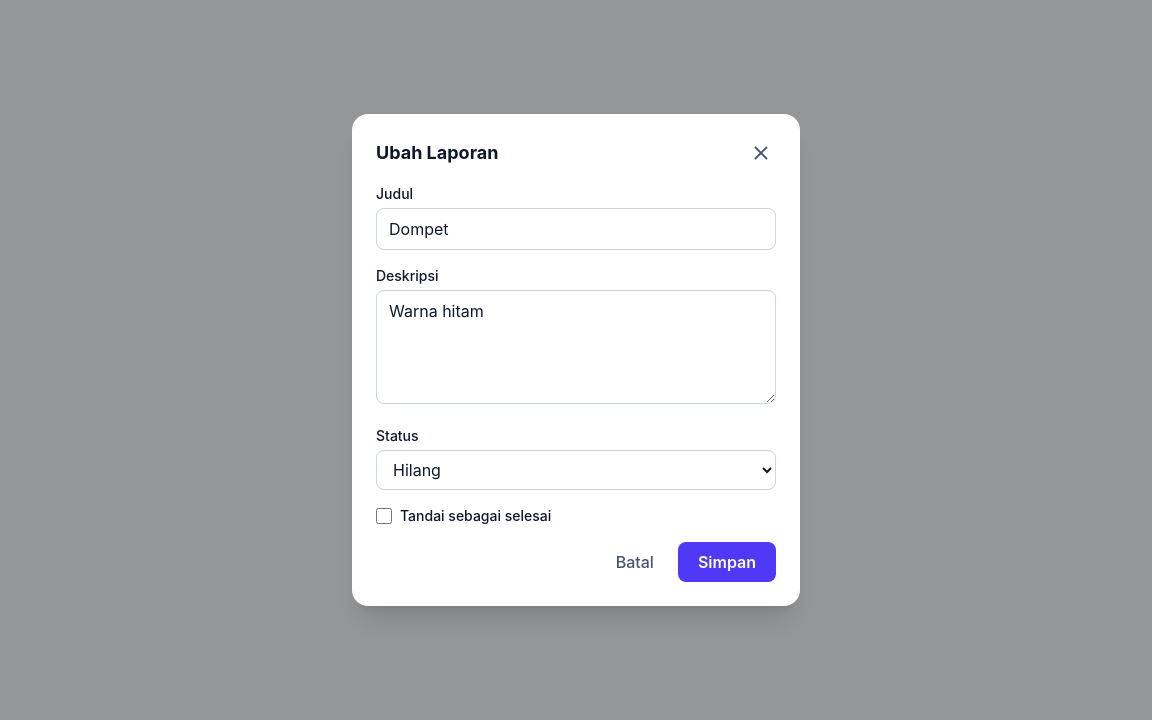
Test: ChangeModal › hanya menampilkan error judul jika hanya judul yang dikosongkan
Step 1. Clear the field labelled "Judul" → (576, 229), box [376,208,776,250]
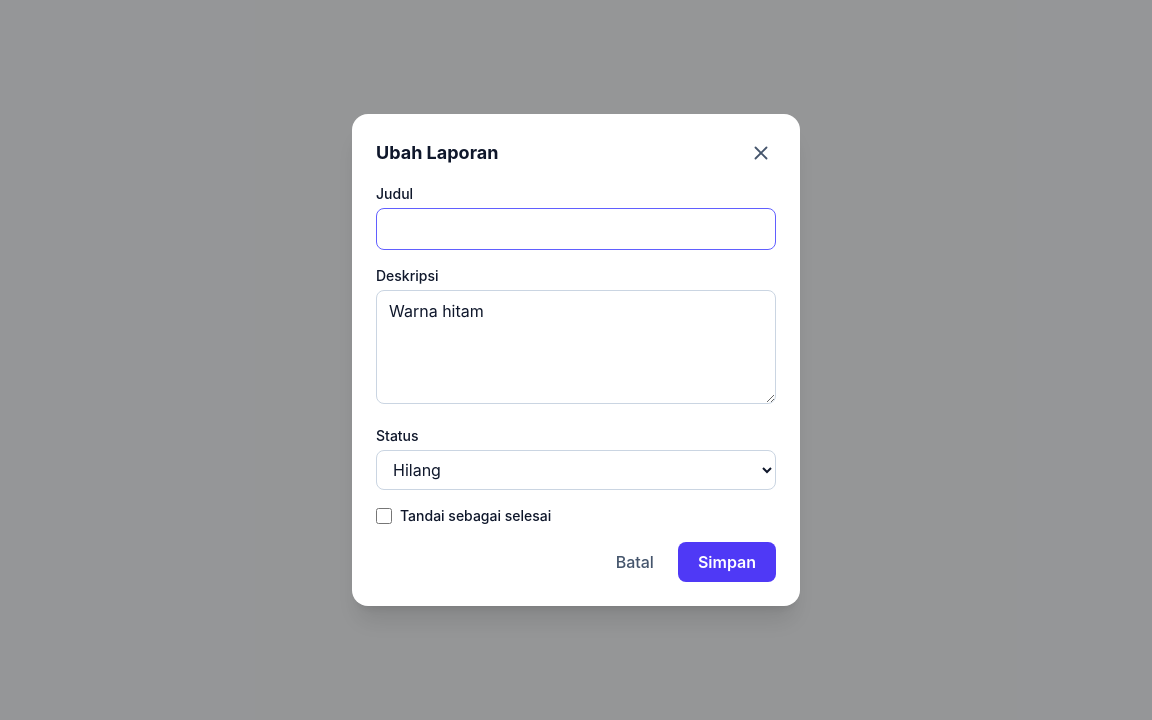
Step 2. Click the button "Simpan" → (727, 562), box [678,542,776,582]
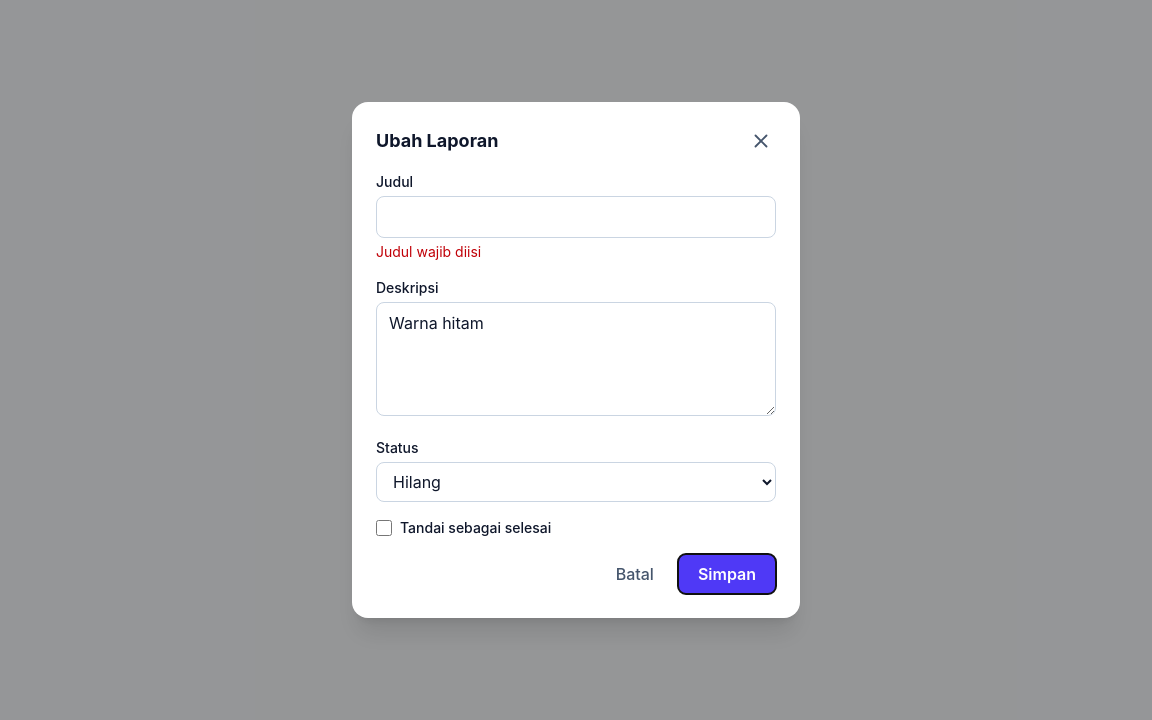
Expected: the text "Judul wajib diisi" is shown, [376,243,481,260]
